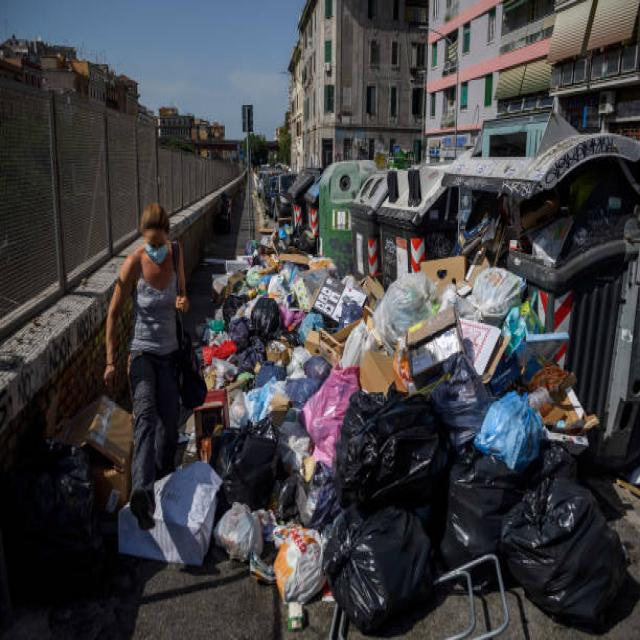cardboard: (46, 405, 147, 505), (433, 310, 503, 366)
metal: (259, 152, 436, 239)
trash: (226, 240, 427, 595), (441, 400, 609, 588)
